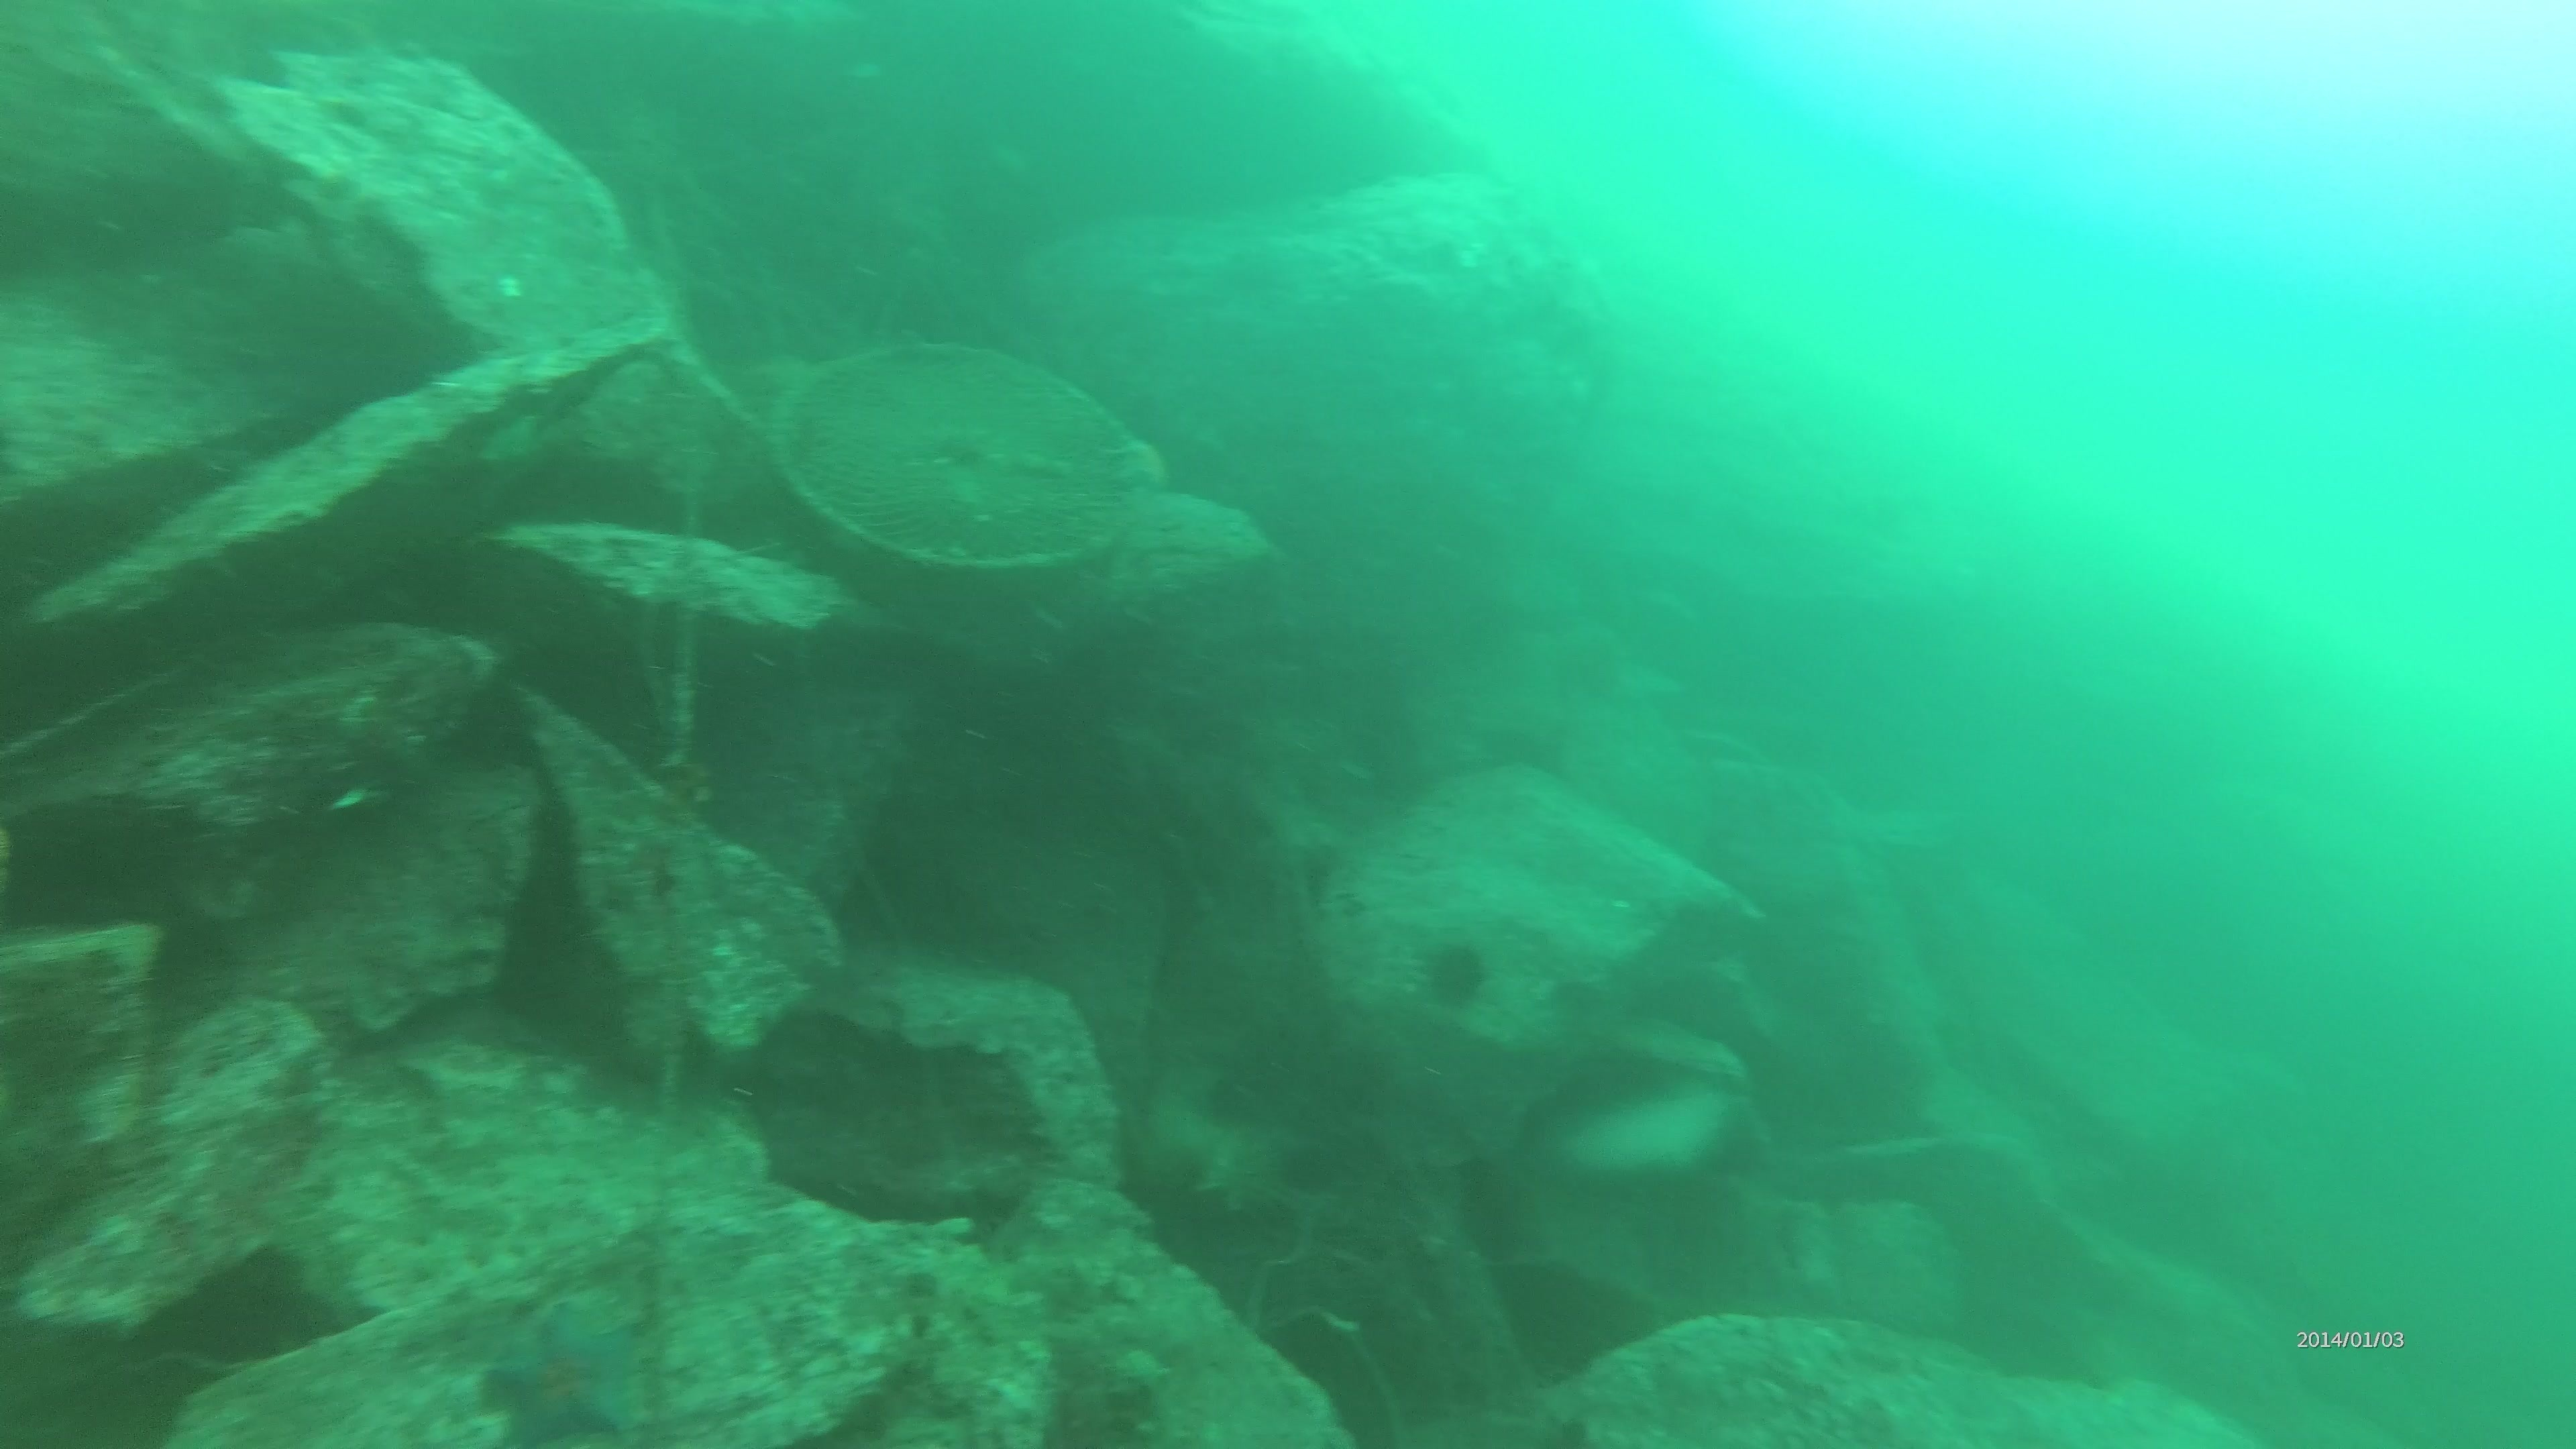echinus: (1410, 929, 1500, 1016), (1283, 1143, 1362, 1194)
starfish: (478, 1292, 658, 1444)
